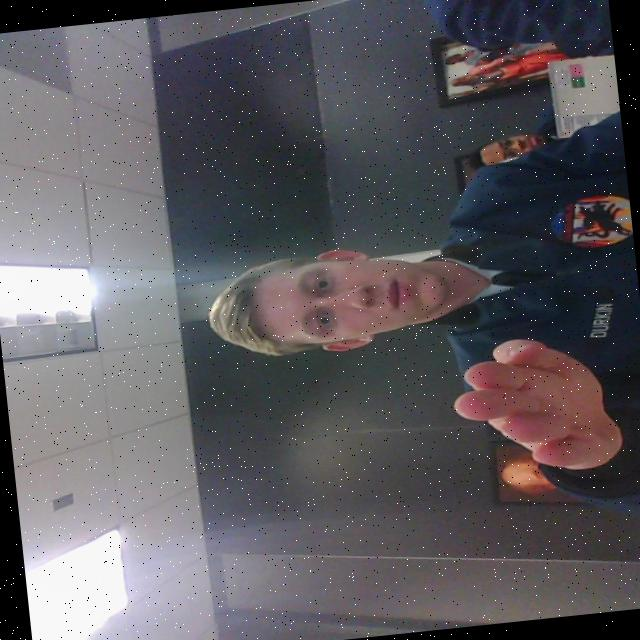paper: (443, 316, 635, 488)
